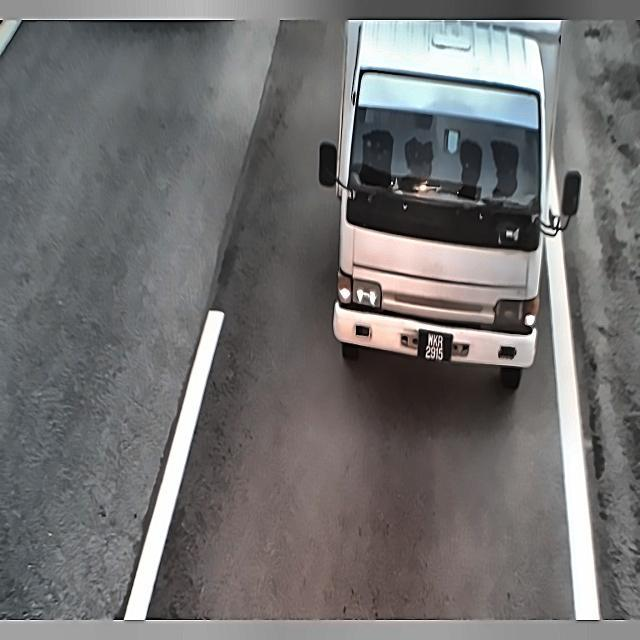car: (416, 321, 456, 370)
